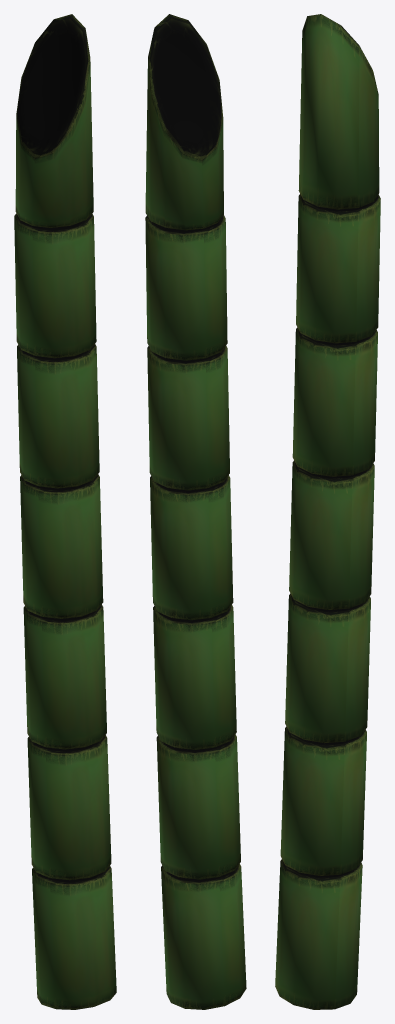
The model's file is bamboo-trap.fbx.
3 renders of one model, left to right at view 1: azimuth 90°, elevation 25°; view 2: azimuth 150°, elevation 25°; view 3: azimuth 270°, elevation 25°, orthographic. The views are drawn at different scales.
Visible parts, largest first — view 1: bamboo trap; view 2: bamboo trap; view 3: bamboo trap.
Part boxes in pixels (x1,y1,x2,y2): bamboo trap: (14,14,116,1009); bamboo trap: (145,14,246,1009); bamboo trap: (275,14,380,1009).
Size of the model in its own units: 131 by 1550 by 149.
